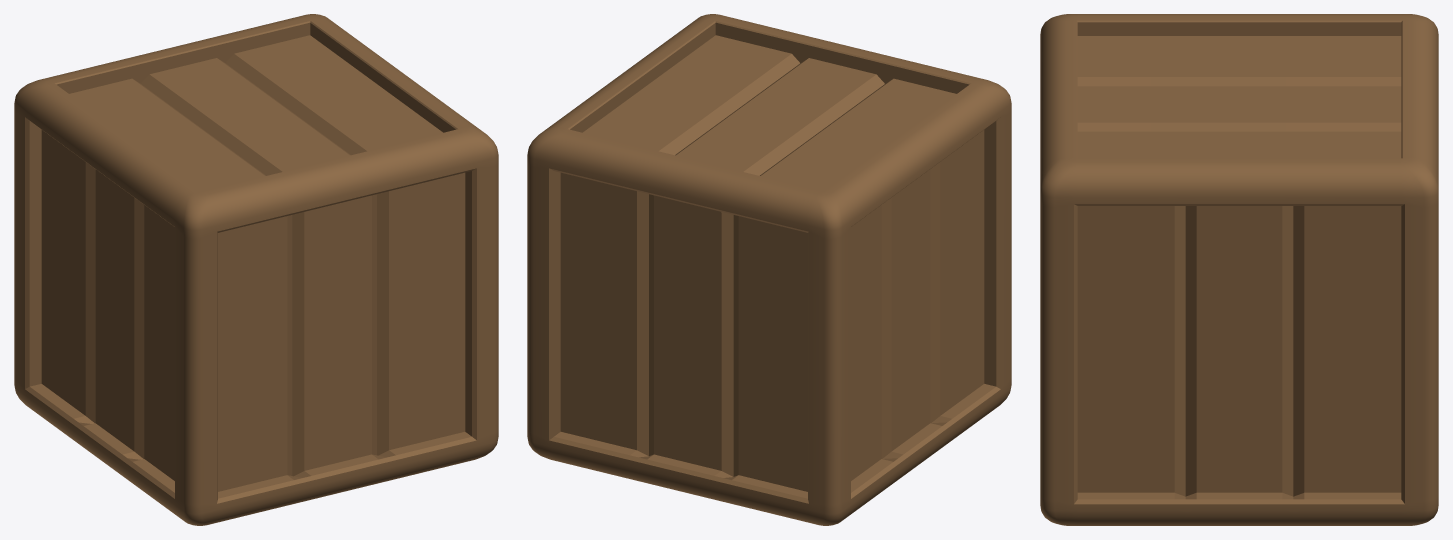
Rendered from obstacle-crate.fbx.
The picture shows the model from 3 angles, left to right: view 1: azimuth 30°, elevation 25°; view 2: azimuth 150°, elevation 25°; view 3: azimuth 270°, elevation 25°; orthographic projection. The views are drawn at different scales.
Visible parts, largest first — view 1: obstacle-crate; view 2: obstacle-crate; view 3: obstacle-crate.
Part boxes in pixels (box(x1,y1,x2,y2)): obstacle-crate: box(14, 14, 498, 525); obstacle-crate: box(527, 14, 1011, 525); obstacle-crate: box(1040, 14, 1438, 525).
Size of the model in its own units: 1.05 by 1.05 by 1.05.
